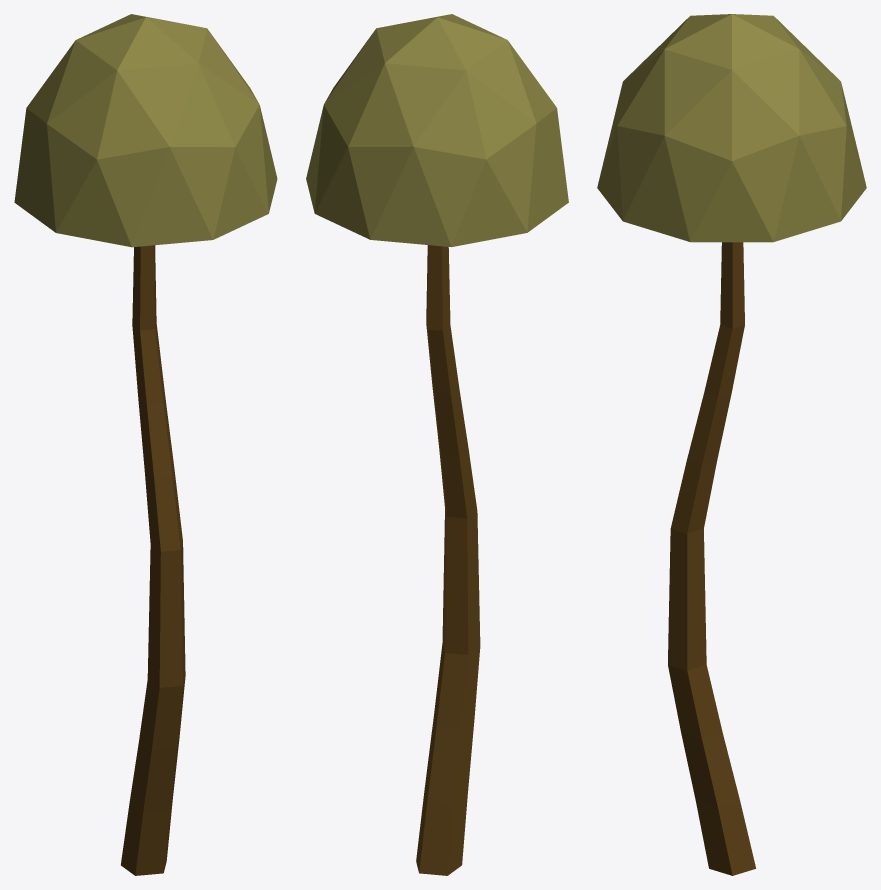
The model's file is cogumelo12.FBX.
3 renders of one model, left to right at view 1: azimuth 30°, elevation 25°; view 2: azimuth 150°, elevation 25°; view 3: azimuth 270°, elevation 25°, orthographic.
Parts seen in each view (by area): view 1: cogumelo12cabeca, cogumelo12; view 2: cogumelo12cabeca, cogumelo12; view 3: cogumelo12cabeca, cogumelo12.
Part boxes in pixels (x1,y1,x2,y2): cogumelo12cabeca: (14,14,277,247); cogumelo12: (121,245,185,875); cogumelo12cabeca: (306,14,568,247); cogumelo12: (416,245,480,875); cogumelo12cabeca: (597,14,866,242); cogumelo12: (668,242,755,875).
Bounding box in the file's own units: 26.09 × 95.58 × 27.43.
